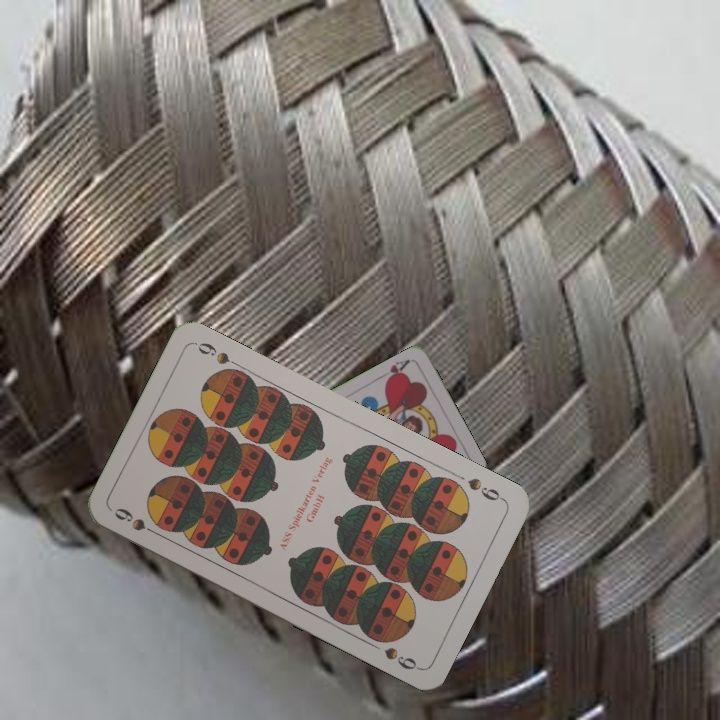HA: (376, 355, 414, 386)
S9: (110, 503, 166, 540), (463, 473, 507, 504)
